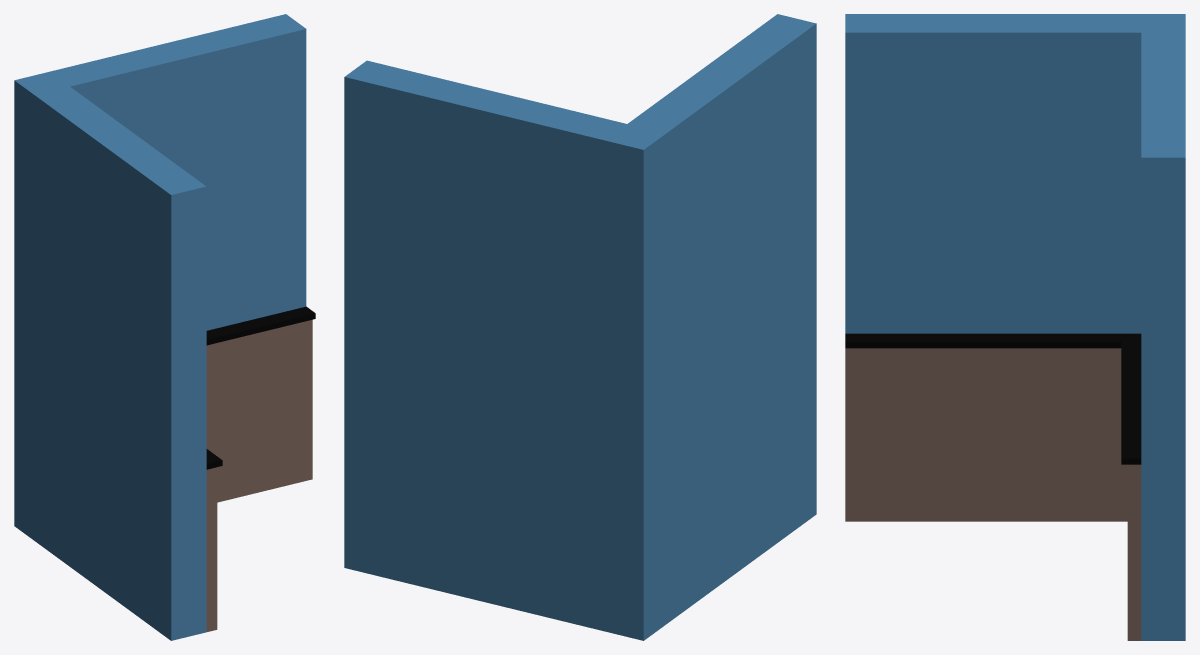
The model's file is P_Wall_Corner_Inside.fbx.
3 views of the same model, side by side, from view 1: azimuth 30°, elevation 25°; view 2: azimuth 150°, elevation 25°; view 3: azimuth 270°, elevation 25° (orthographic). The views are drawn at different scales.
Visible parts, largest first — view 1: P_Wall_Corner_Inside; view 2: P_Wall_Corner_Inside; view 3: P_Wall_Corner_Inside.
Part boxes in pixels (x1=…): P_Wall_Corner_Inside: x1=14, y1=14, x2=315, y2=640; P_Wall_Corner_Inside: x1=344, y1=14, x2=816, y2=640; P_Wall_Corner_Inside: x1=845, y1=14, x2=1185, y2=640.
Size of the model in its own units: 1000 by 1000 by 1568.
